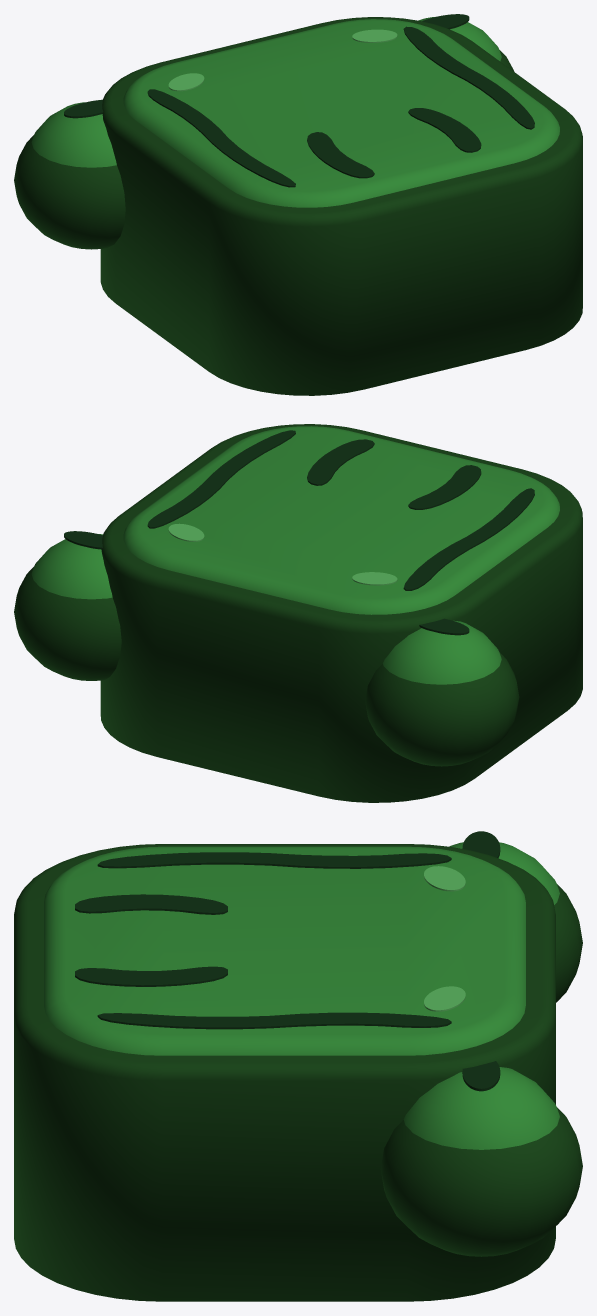
The model's file is body_estampa_melancia.fbx.
3 renders of one model, top to bottom at view 1: azimuth 30°, elevation 25°; view 2: azimuth 150°, elevation 25°; view 3: azimuth 270°, elevation 25°, orthographic. The views are drawn at different scales.
Visible parts, largest first — view 1: body_estampa_melancia_corpo, body_estampa_melancia_mao_esq, body_estampa_melancia_mao; view 2: body_estampa_melancia_corpo, body_estampa_melancia_mao_esq, body_estampa_melancia_mao; view 3: body_estampa_melancia_corpo, body_estampa_melancia_mao, body_estampa_melancia_mao_esq.
Boxes of the visible parts, x1,y1,x2,y2 form: body_estampa_melancia_corpo: [100, 17, 582, 395]; body_estampa_melancia_mao_esq: [14, 99, 125, 249]; body_estampa_melancia_mao: [418, 14, 514, 71]; body_estampa_melancia_corpo: [100, 424, 582, 802]; body_estampa_melancia_mao_esq: [365, 618, 519, 766]; body_estampa_melancia_mao: [14, 531, 121, 680]; body_estampa_melancia_corpo: [14, 844, 555, 1301]; body_estampa_melancia_mao: [380, 1061, 582, 1256]; body_estampa_melancia_mao_esq: [449, 831, 582, 1002].
Bounding box in the file's own units: 5.4 × 2.03 × 4.2.
Materials: 1 (1 with a texture image).
